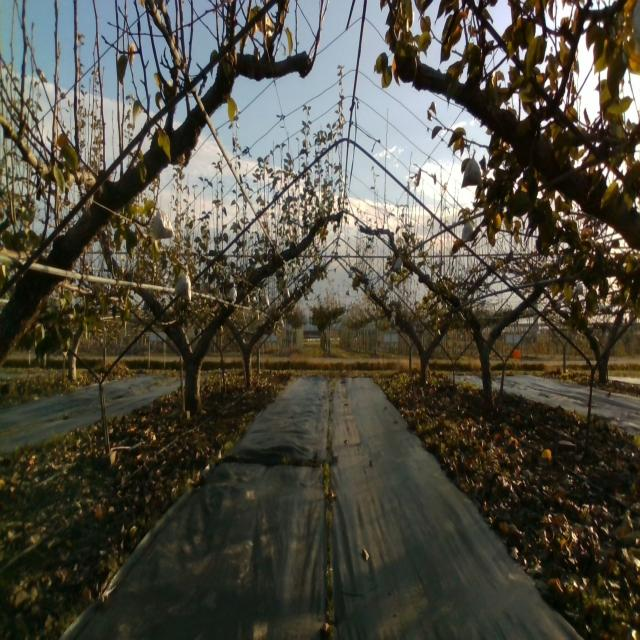pearbags: (461, 149, 484, 188), (150, 207, 175, 241), (174, 264, 192, 302), (462, 221, 474, 243)
